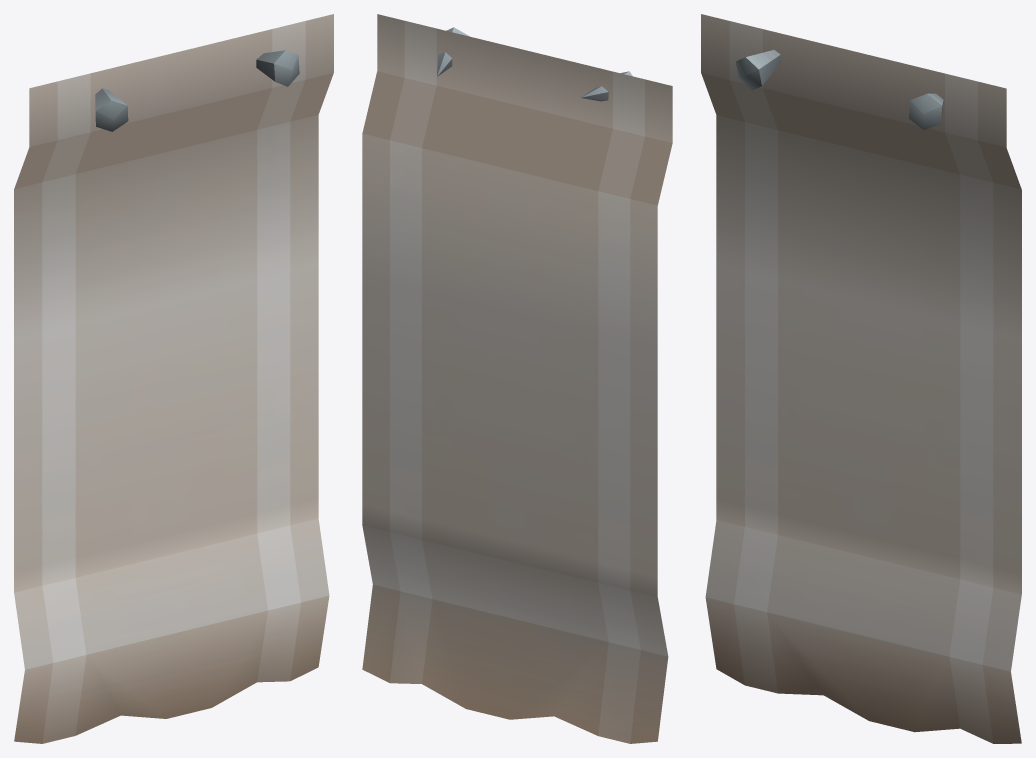
Rendered from banner_white.glb.
3 renders of one model, left to right at view 1: azimuth 30°, elevation 25°; view 2: azimuth 150°, elevation 25°; view 3: azimuth 330°, elevation 25°, orthographic. The views are drawn at different scales.
Parts seen in each view (by area): view 1: banner_white; view 2: banner_white; view 3: banner_white.
Boxes of the visible parts, x1,y1,x2,y2 form: banner_white: (14, 14, 333, 743); banner_white: (362, 14, 672, 743); banner_white: (701, 14, 1021, 743).
Size of the model in its own units: 1.5 by 3.2 by 0.3117.
1 material, 1 textured.
